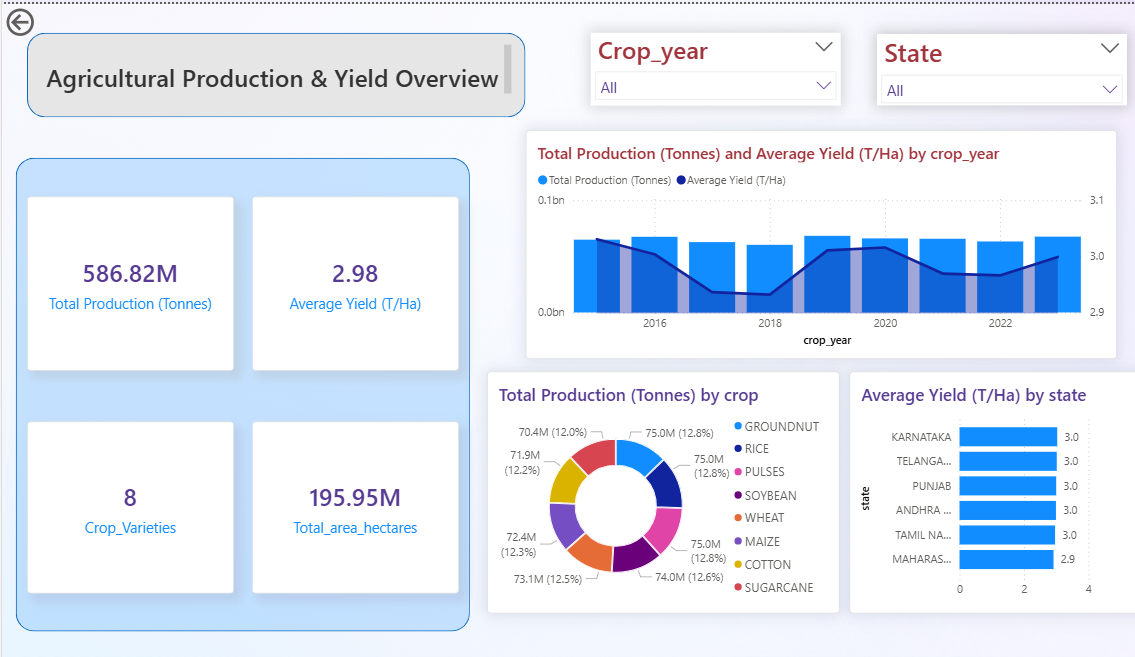

The dashboard page shown, as its layout file describes it:
{"tool":"powerbi","page":{"name":"Executive Overview","canvas":[1280,720],"ordinal":0},"visuals":[{"type":"shape","box":[27.1,31.4,547.1,92.9],"z":0},{"type":"shape","box":[15.7,168.6,498.6,520],"z":1000},{"type":"card","fields":{"Values":["gold_crop_yield_summary.Average Yield (T/Ha)"]},"box":[274.3,211.4,227.1,191.4],"z":2000},{"type":"card","fields":{"Values":["gold_crop_yield_summary.Total Production (Tonnes)"]},"box":[27.1,211.4,227.1,191.4],"z":3000},{"type":"card","fields":{"Values":["Sum(gold_crop_yield_summary.total_area_hectares)"]},"box":[274.3,458.6,227.1,188.6],"z":4000},{"type":"card","fields":{"Values":["gold_crop_yield_summary.Crop_Varieties"]},"box":[27.1,458.6,227.1,188.6],"z":5000},{"type":"actionButton","box":[0,0,100,40],"z":6000},{"type":"slicer","fields":{"Values":["gold_crop_yield_summary.crop_year"]},"box":[645.7,31.4,274.3,80],"z":7000},{"type":"lineClusteredColumnComboChart","fields":{"Category":["gold_crop_yield_summary.crop_year"],"Y":["gold_crop_yield_summary.Total Production (Tonnes)"],"Y2":["gold_crop_yield_summary.Average Yield (T/Ha)"]},"box":[574.3,138.6,648.6,251.4],"z":8000},{"type":"donutChart","fields":{"Category":["gold_crop_yield_summary.crop"],"Y":["gold_crop_yield_summary.Total Production (Tonnes)"]},"box":[532.9,402.9,387.1,265.7],"z":9000},{"type":"clusteredBarChart","fields":{"Category":["gold_crop_yield_summary.state"],"Y":["gold_crop_yield_summary.Average Yield (T/Ha)"]},"box":[930,402.9,332.9,265.7],"z":10000},{"type":"slicer","fields":{"Values":["gold_crop_yield_summary.state"]},"box":[960,32.9,274.3,78.6],"z":11000},{"type":"textbox","box":[38.4,39.8,525.6,71.4],"z":12000}]}

Visuals, with their boxes on the page's 1280x720 design canvas (x1, y1, x2, y2). These are canvas units, not pixel positions in the 1135x657 screenshot, which may show the page scaled, cropped or inside an application window:
shape: (x1=27, y1=31, x2=574, y2=124)
shape: (x1=16, y1=169, x2=514, y2=689)
card - gold_crop_yield_summary.Average Yield (T/Ha): (x1=274, y1=211, x2=501, y2=403)
card - gold_crop_yield_summary.Total Production (Tonnes): (x1=27, y1=211, x2=254, y2=403)
card - Sum(gold_crop_yield_summary.total_area_hectares): (x1=274, y1=459, x2=501, y2=647)
card - gold_crop_yield_summary.Crop_Varieties: (x1=27, y1=459, x2=254, y2=647)
actionButton: (x1=0, y1=0, x2=100, y2=40)
slicer - gold_crop_yield_summary.crop_year: (x1=646, y1=31, x2=920, y2=111)
lineClusteredColumnComboChart - gold_crop_yield_summary.crop_year x gold_crop_yield_summary.Total Production (Tonnes): (x1=574, y1=139, x2=1223, y2=390)
donutChart - gold_crop_yield_summary.crop x gold_crop_yield_summary.Total Production (Tonnes): (x1=533, y1=403, x2=920, y2=669)
clusteredBarChart - gold_crop_yield_summary.state x gold_crop_yield_summary.Average Yield (T/Ha): (x1=930, y1=403, x2=1263, y2=669)
slicer - gold_crop_yield_summary.state: (x1=960, y1=33, x2=1234, y2=112)
textbox: (x1=38, y1=40, x2=564, y2=111)
